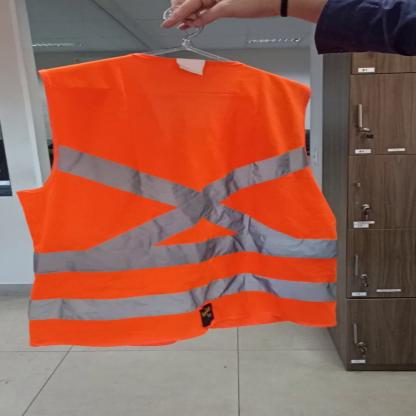colete: (20, 50, 350, 351)
